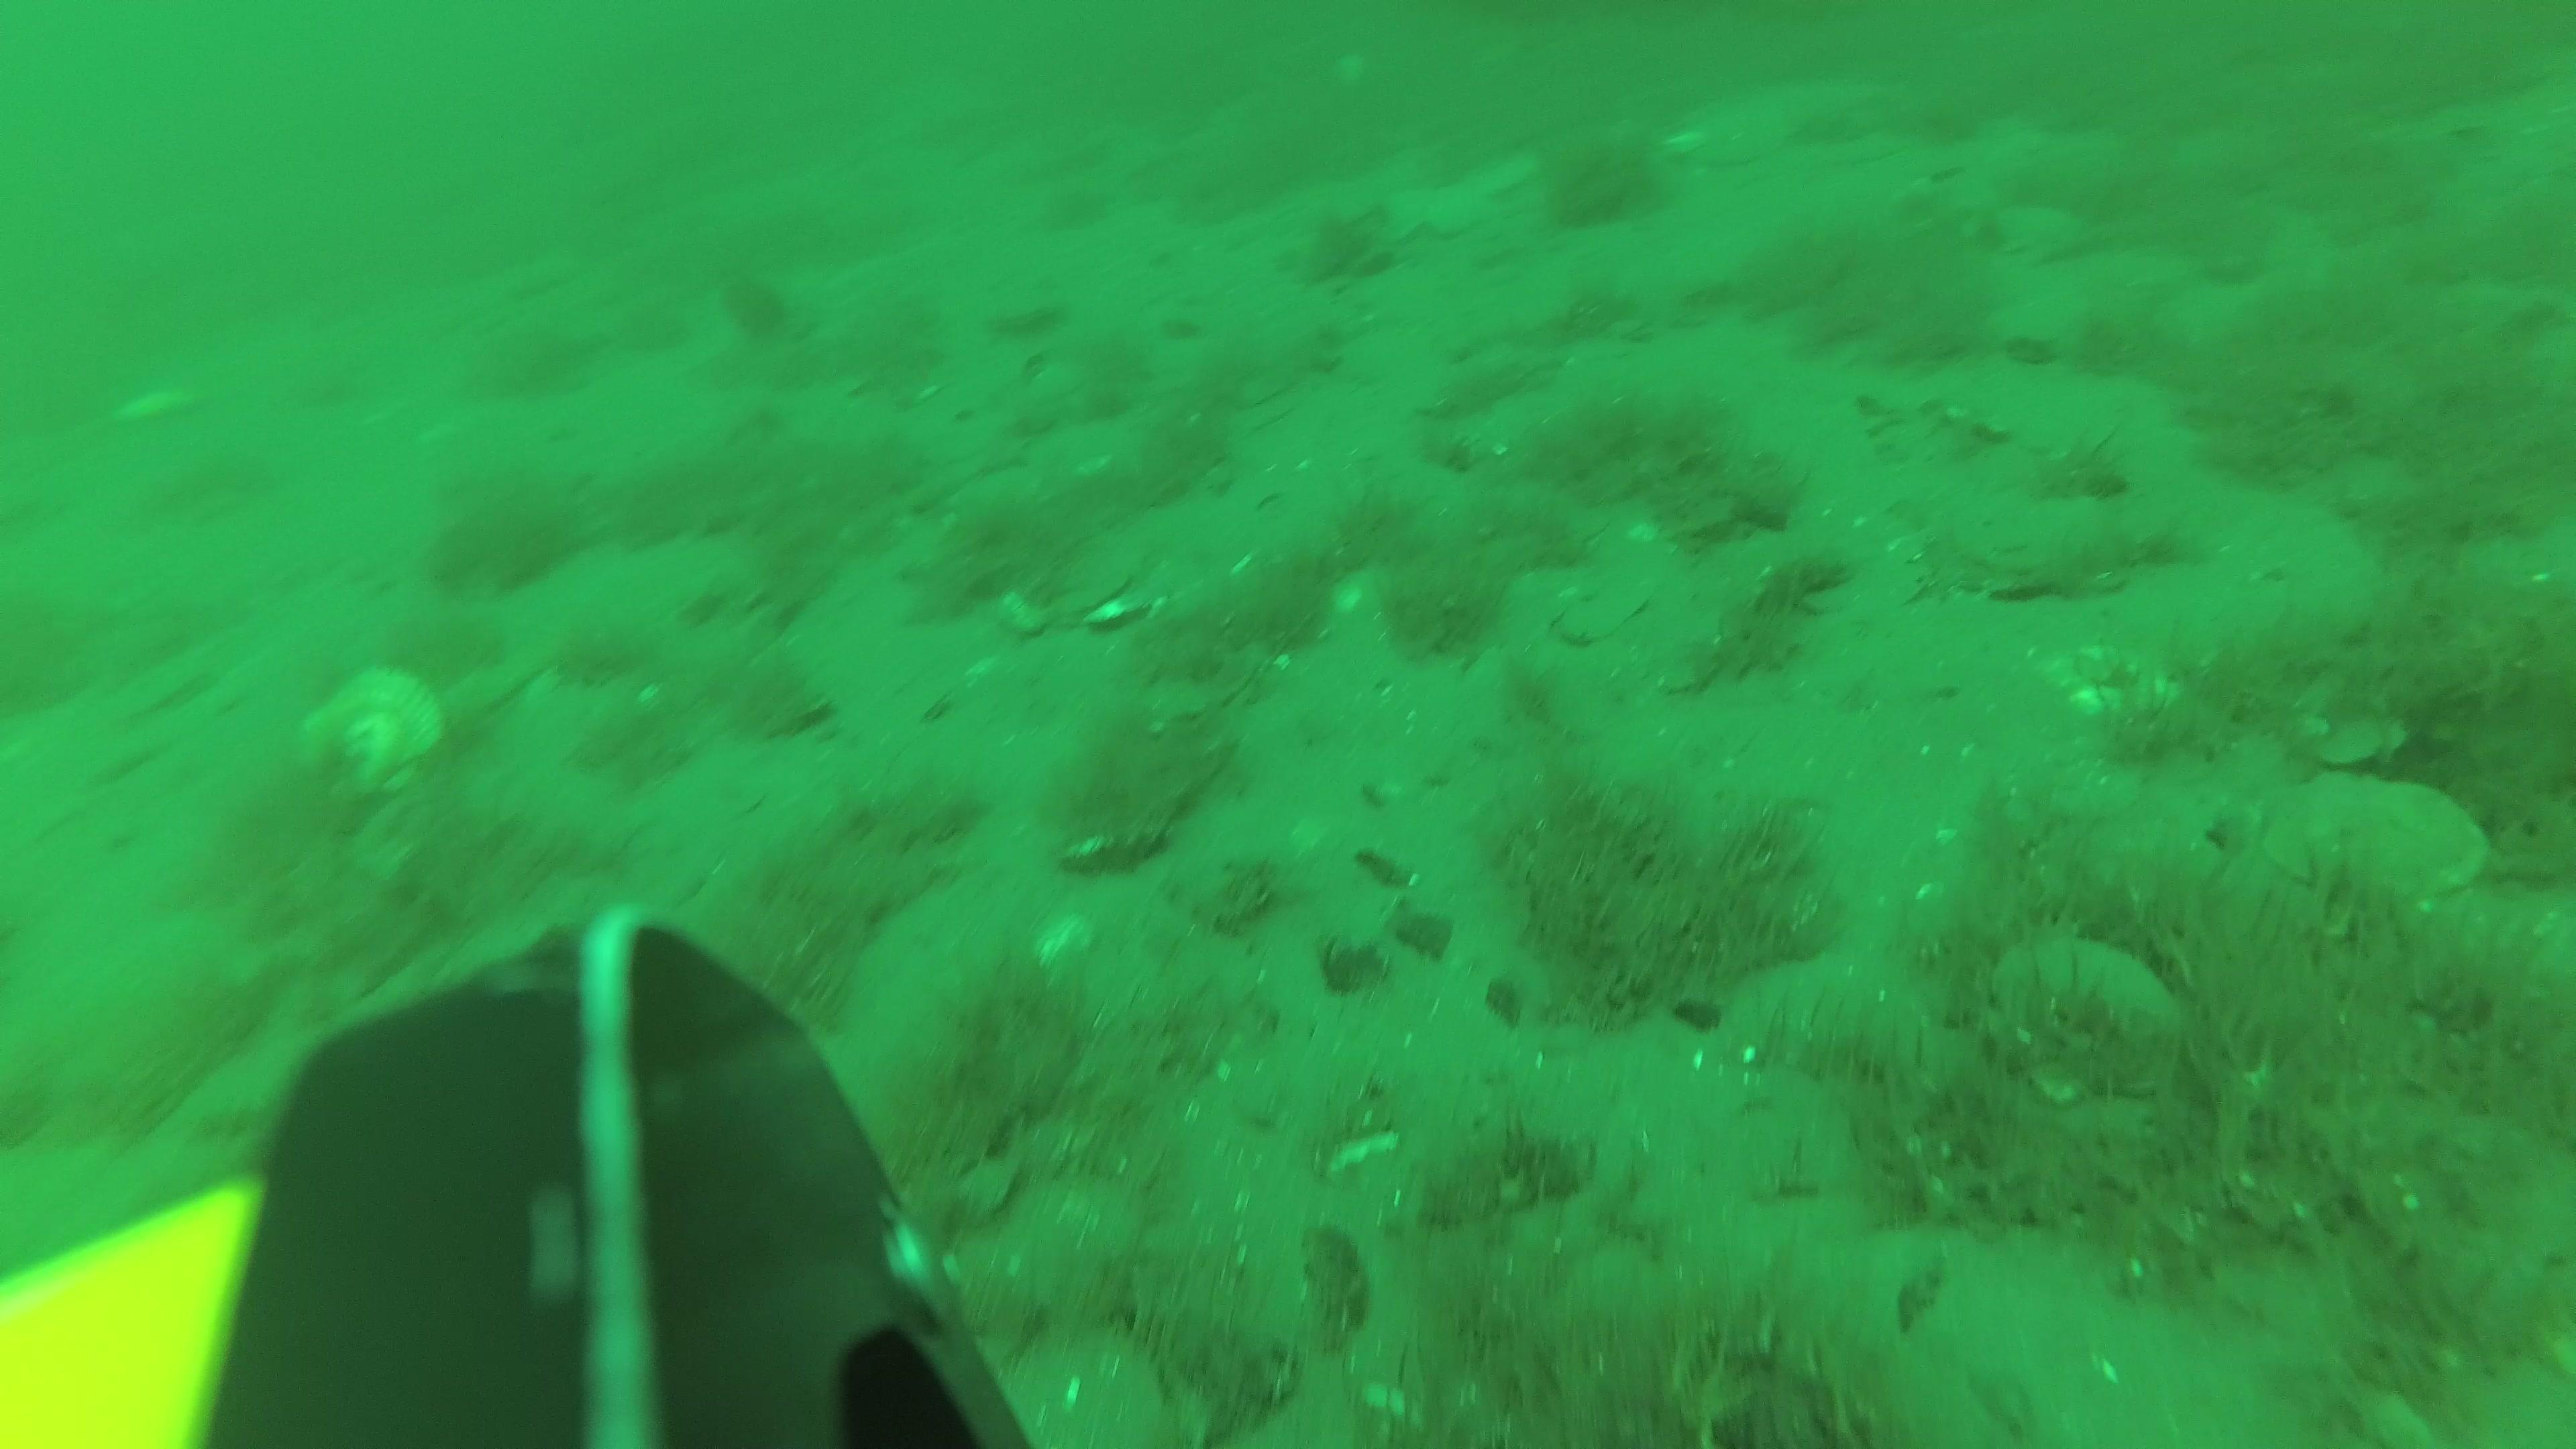scallop: (1982, 936, 2166, 1102), (2266, 764, 2488, 892), (295, 672, 455, 782), (1000, 557, 1150, 637), (1951, 207, 2082, 257), (993, 283, 1074, 331), (1481, 143, 1543, 193), (1334, 53, 1362, 83)
starfish: (1385, 180, 1504, 249)
